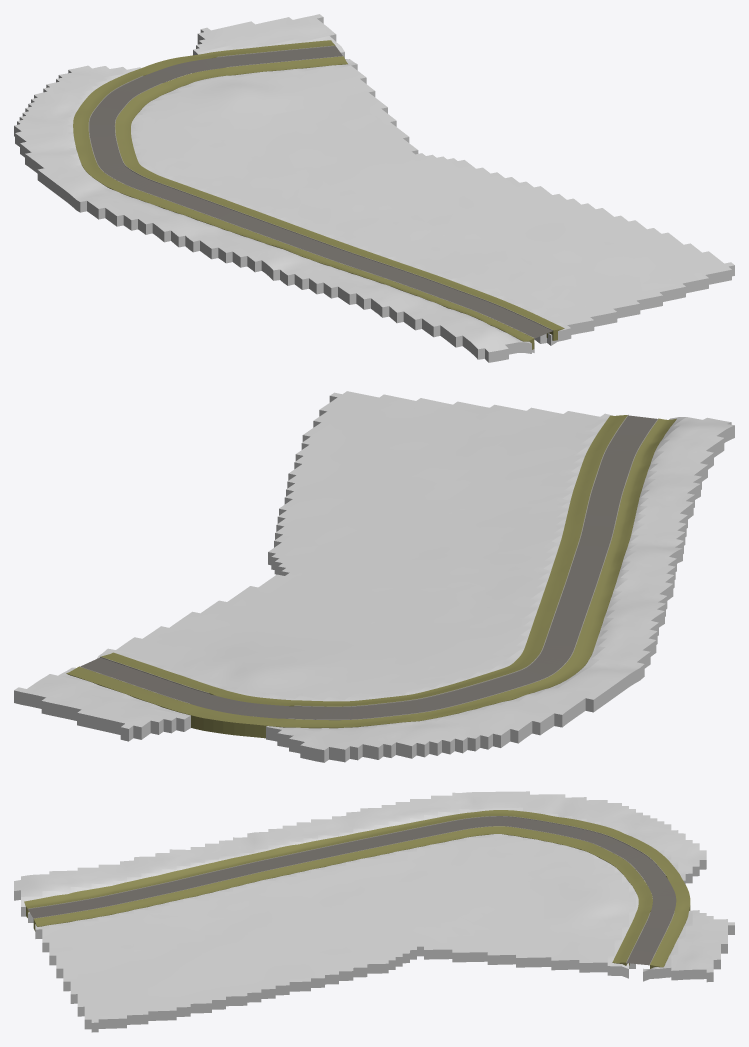
The model's file is conz_93.glb.
3 renders of one model, top to bottom at view 1: azimuth 30°, elevation 25°; view 2: azimuth 150°, elevation 25°; view 3: azimuth 270°, elevation 25°, orthographic. The views are drawn at different scales.
Visible parts, largest first — view 1: terrain93, road93, verge93R, verge93L, kerb93_110310, kerb93_110310.001; view 2: terrain93, road93, verge93R, verge93L, kerb93_110310, kerb93_110310.001; view 3: terrain93, road93, verge93L, verge93R, kerb93_110310.001, kerb93_110310.
Boxes of the visible parts, left/top/right/bottom form: terrain93: left=14, top=14, right=734, bottom=362; road93: left=89, top=46, right=552, bottom=338; verge93R: left=73, top=40, right=534, bottom=349; verge93L: left=115, top=56, right=564, bottom=340; kerb93_110310: left=114, top=83, right=552, bottom=331; kerb93_110310.001: left=88, top=75, right=534, bottom=338; terrain93: left=14, top=391, right=734, bottom=762; road93: left=80, top=415, right=657, bottom=719; verge93R: left=66, top=418, right=676, bottom=738; verge93L: left=101, top=415, right=627, bottom=706; kerb93_110310: left=294, top=414, right=628, bottom=707; kerb93_110310.001: left=288, top=418, right=658, bottom=720; terrain93: left=14, top=791, right=734, bottom=1032; road93: left=28, top=816, right=676, bottom=965; verge93L: left=33, top=826, right=652, bottom=965; verge93R: left=24, top=810, right=690, bottom=968; kerb93_110310.001: left=27, top=816, right=666, bottom=909; kerb93_110310: left=34, top=826, right=643, bottom=918.
Size of the model in its own units: 136 by 12 by 204.
